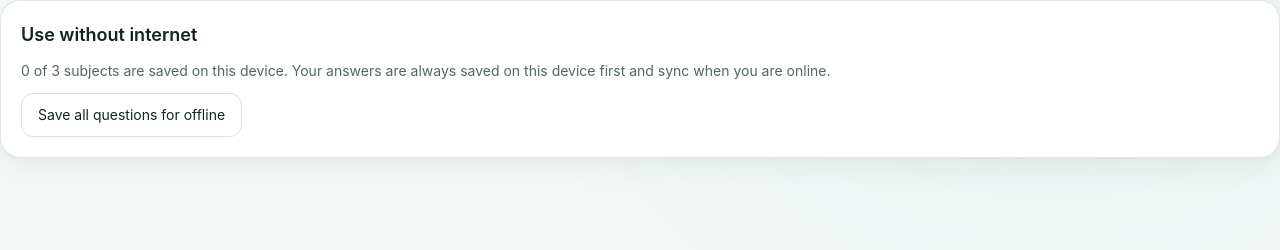
Test: OfflineCard › shows how much is saved and saves everything on request
Expected: the text "0 of 3 subjects are saved" is shown, [21, 62, 288, 79]
Click the button "Save all questions for offline". click: (132, 115)
box: [21, 93, 242, 137]
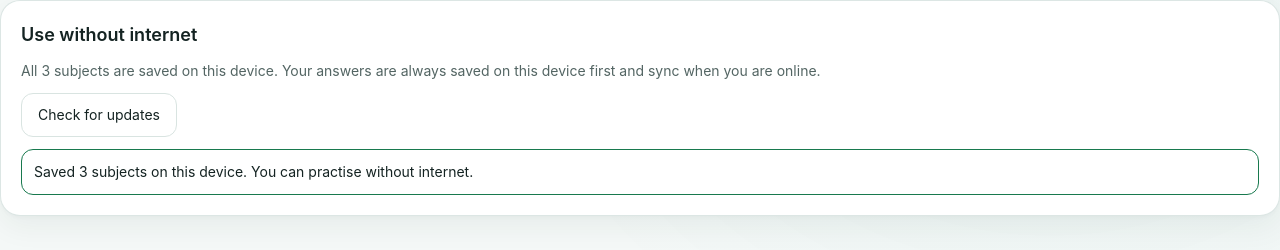
Expected: the text "Saved 3 subjects on this device. You can practise without internet." is shown, [21, 149, 1259, 195]
Expected: the text "All 3 subjects are saved" is shown, [21, 62, 278, 79]
Expected: the button "Check for updates" is shown, [21, 93, 177, 137]
